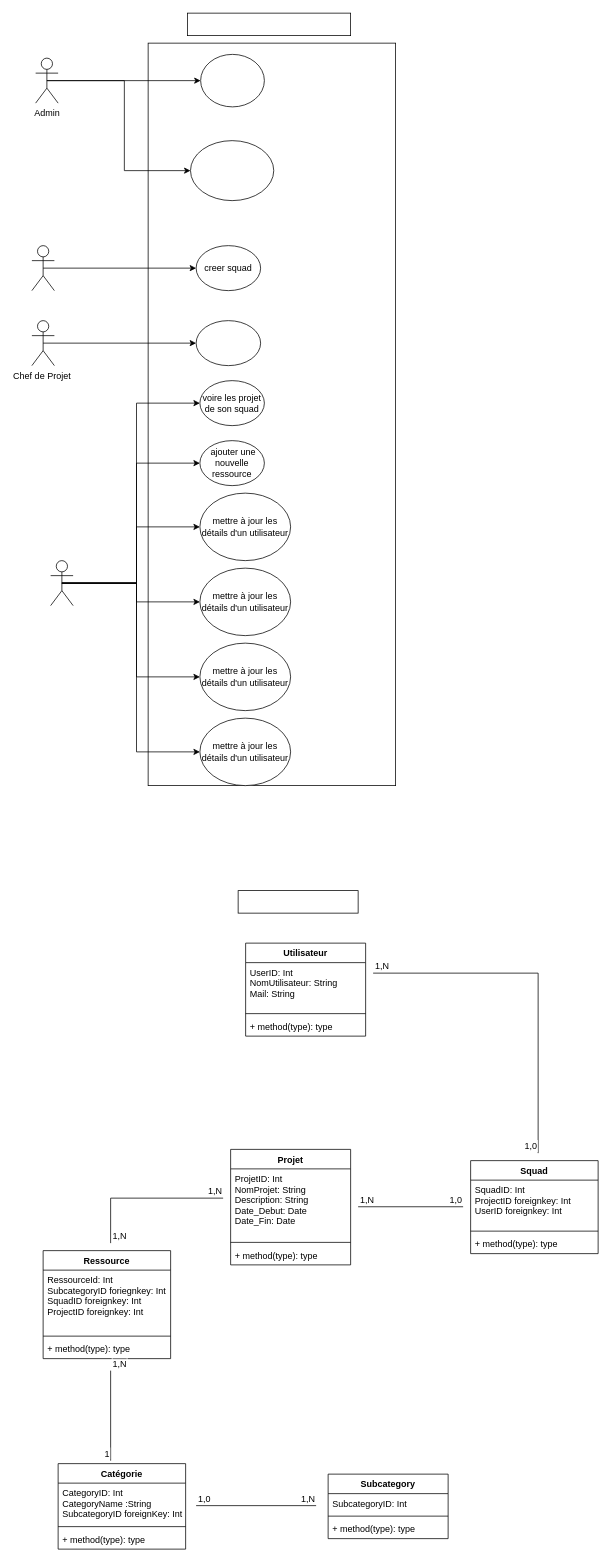
Some shapes in this 611 by 1565 pixel diagram are drawn without their labels. Each missing label, with the centre of its shape:
Ajouter User: point (232, 80)
creer nouveau projet: point (228, 343)
créer de nouvelles catégories et sous-catégories: point (232, 170)
Diagramme de cas d'utilisation: point (269, 24)
Diagramme de classe: point (297, 901)
leader: point (42, 268)
membre de squad: point (61, 583)
